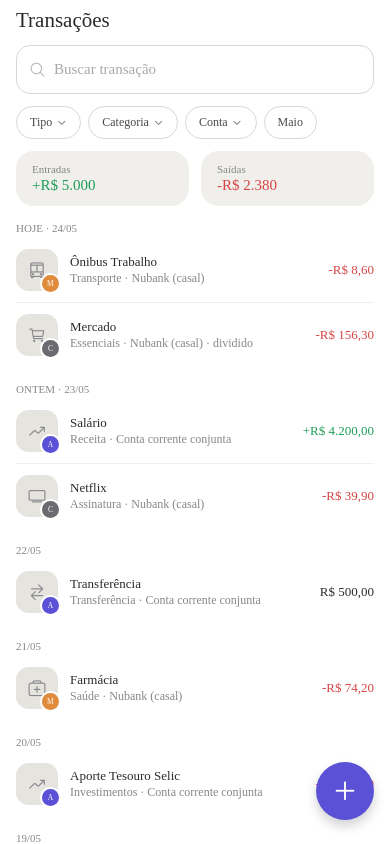
Test: Transações › filtra por categoria
This screenshot has width=390, height=844.
Click the text "Categoria" at (126, 122), box [102,115,149,130]
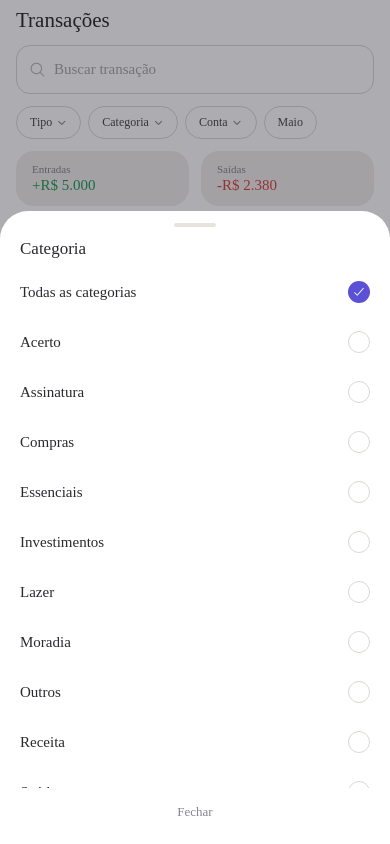
Click the text "Moradia" at (45, 642), box [20,634,71,650]
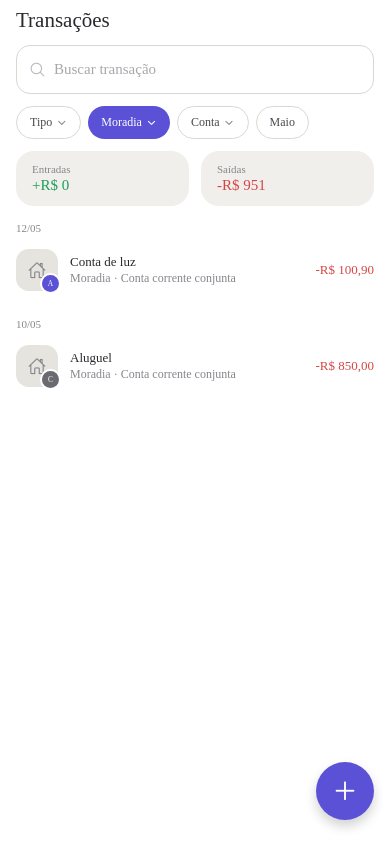
Check: the text "Aluguel" is shown, box [70,350,112,365]
Check: the text "Netflix" is gone
